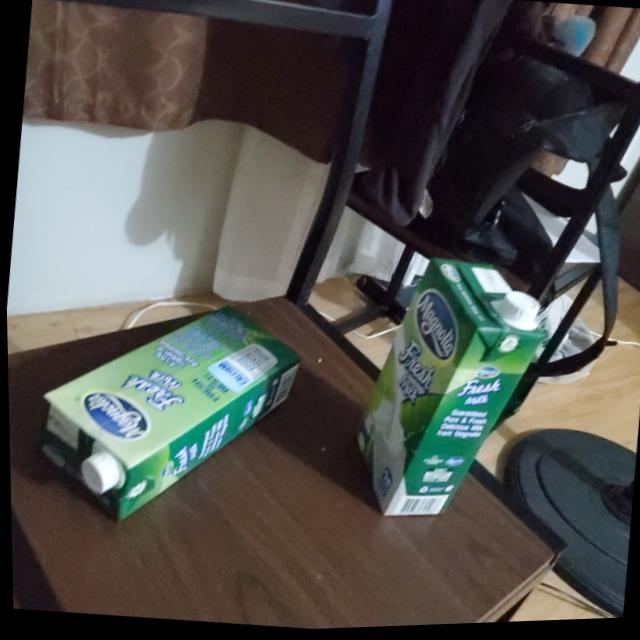milk: (27, 285, 304, 540), (339, 250, 555, 540)
